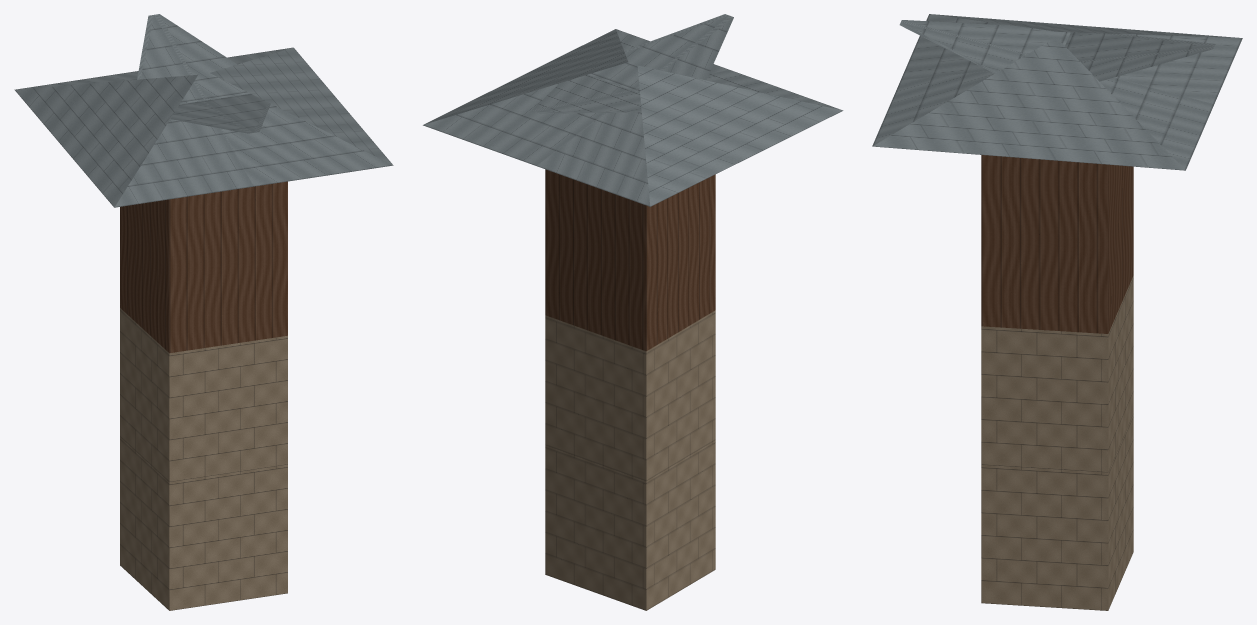
Rendered from bld_c31_-38_459.gltf.
3 renders of one model, left to right at view 1: azimuth 30°, elevation 25°; view 2: azimuth 150°, elevation 25°; view 3: azimuth 270°, elevation 25°, orthographic. The views are drawn at different scales.
Parts seen in each view (by area): view 1: bld_c31_-38_459; view 2: bld_c31_-38_459; view 3: bld_c31_-38_459.
Boxes of the visible parts, left/top/right/bottom form: bld_c31_-38_459: left=14, top=14, right=393, bottom=610; bld_c31_-38_459: left=423, top=14, right=843, bottom=610; bld_c31_-38_459: left=872, top=14, right=1242, bottom=610.
Bounding box in the file's own units: 5.81 × 9.4 × 5.81.
3 materials, 3 textured.
